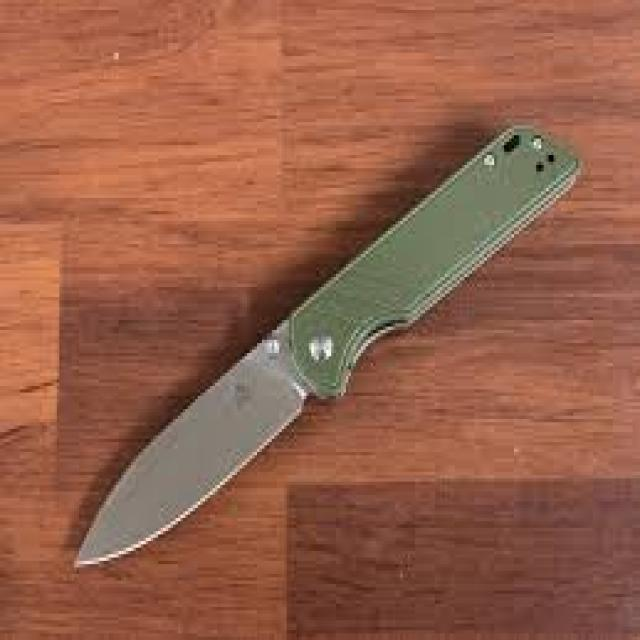knife: (75, 126, 581, 566)
